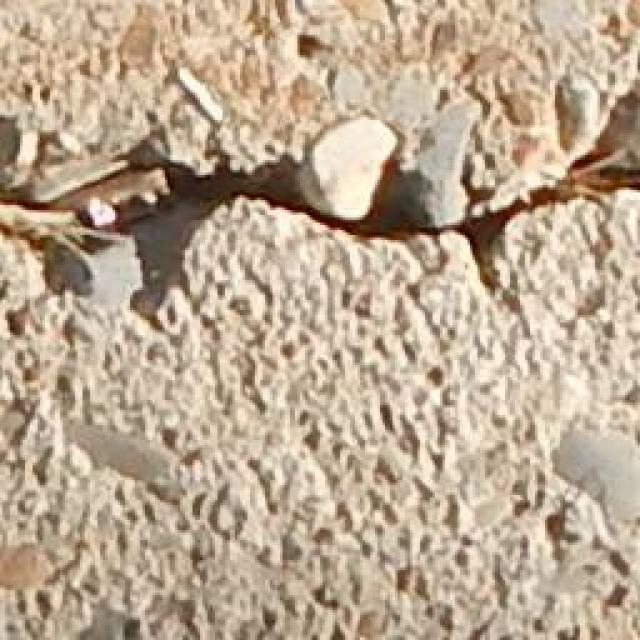concrete-crack: (0, 116, 640, 338)
